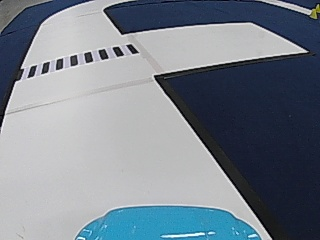CrossWalk: (22, 43, 136, 77)
